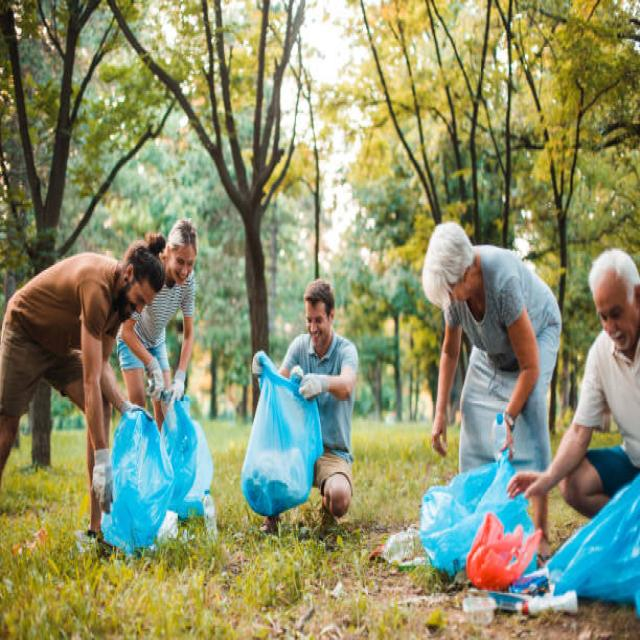plastic: (483, 418, 513, 453)
trash: (418, 446, 551, 584), (108, 397, 220, 541), (240, 353, 330, 516), (542, 486, 636, 615)
